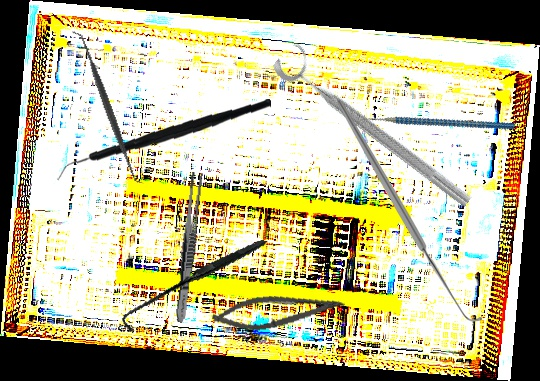Chopper: (56, 88, 272, 192), (352, 67, 516, 185)
Dressing Forceps: (173, 171, 204, 324)
Fixation Ring: (270, 38, 484, 213)
Hook Surgical: (335, 98, 482, 323), (120, 215, 268, 355)
Micro Scissor: (210, 281, 347, 339)
Spatula Surgical: (70, 24, 145, 190)
